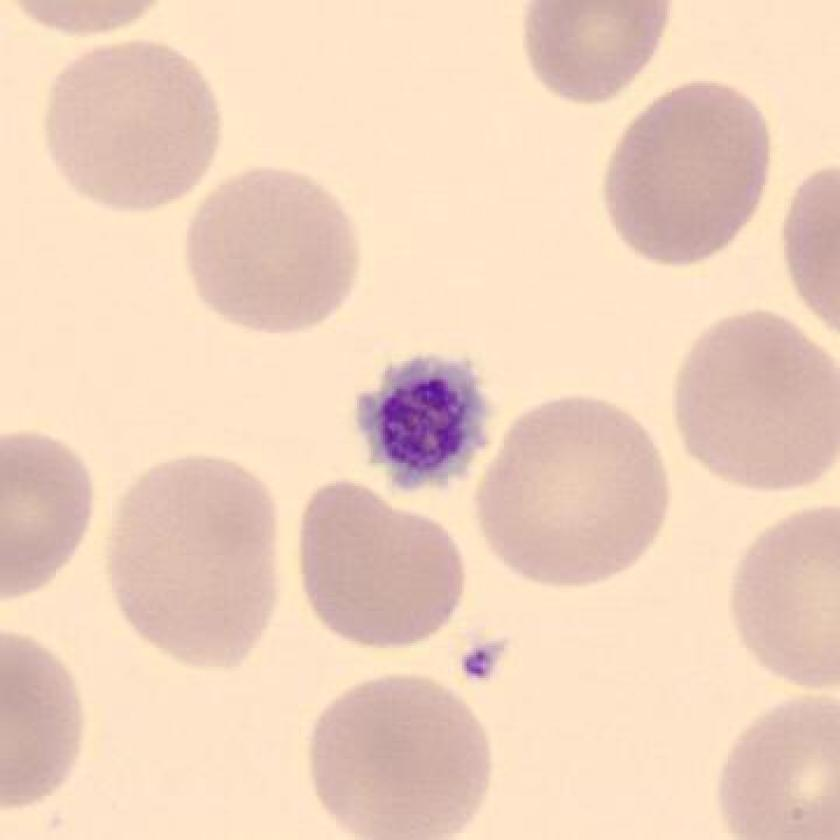platelets: (344, 339, 510, 515)
